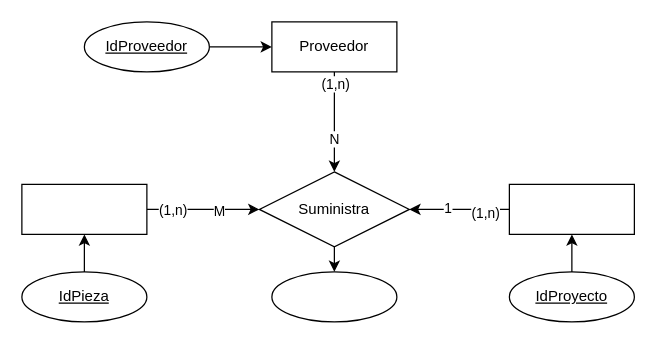
The diagram is 656 pixels wide and 344 high, and some of its shapes have lost their labels. Each missing label, with the centre of its shape:
"Cantidad_Suministrada" goes at (334,296).
"Piezas" goes at (84,208).
"Proyecto" goes at (571,208).
